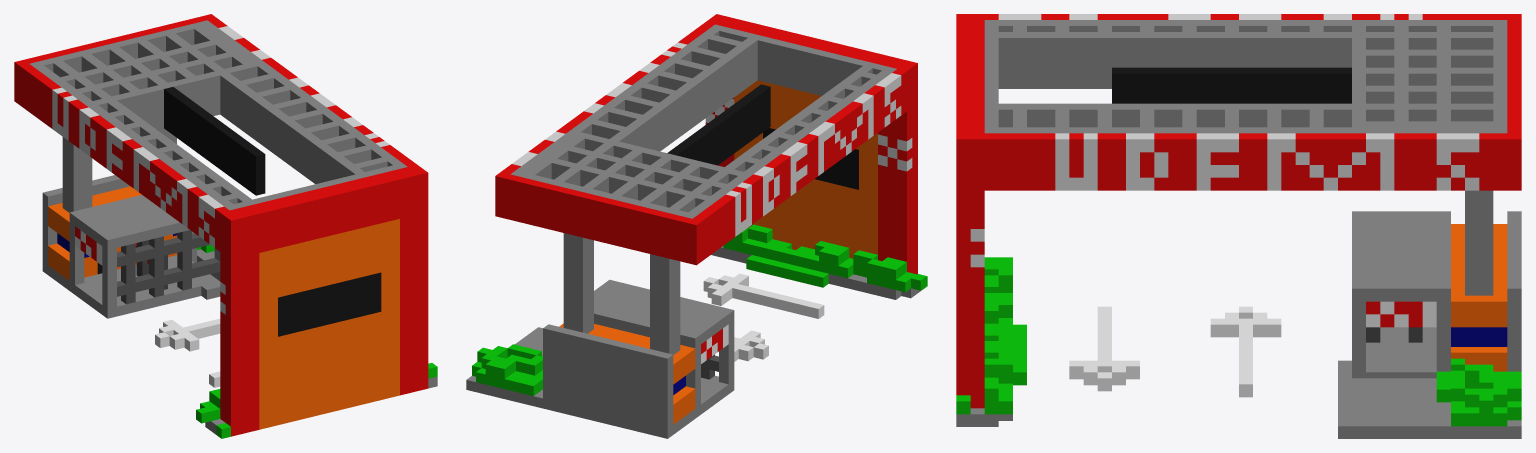
The model's file is porteria5_texture_embed.fbx.
3 renders of one model, left to right at view 1: azimuth 30°, elevation 25°; view 2: azimuth 150°, elevation 25°; view 3: azimuth 270°, elevation 25°, orthographic. The views are drawn at different scales.
Parts seen in each view (by area): view 1: Porteria 5; view 2: Porteria 5; view 3: Porteria 5.
Boxes of the visible parts, x1=… form: Porteria 5: x1=14, y1=14, x2=437, y2=438; Porteria 5: x1=466, y1=14, x2=927, y2=438; Porteria 5: x1=956, y1=14, x2=1521, y2=438.
Bounding box in the file's own units: 260 × 220 × 400.
1 material, 1 textured.
